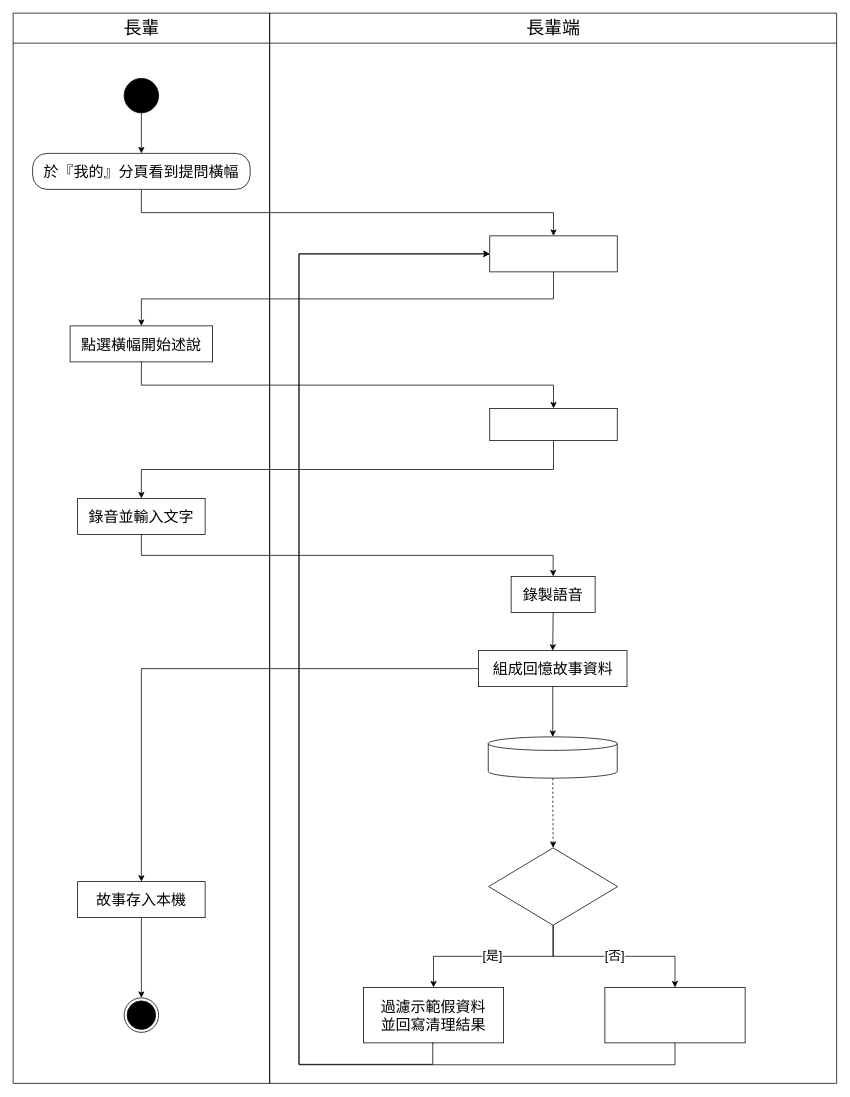
The diagram is 850 pixels wide and 1097 high, and some of its shapes have lost their labels. The shapes that lost their labels are listed below. From the top down, each one's centre as x and y in pixels, then its label:
point 553,253: 回憶提問橫幅
point 553,424: 口述故事彈窗
point 552,757: 手機本機儲存
point 553,886: 資料解析成功？
point 674,1015: 回傳空清單 並記錄錯誤訊息
